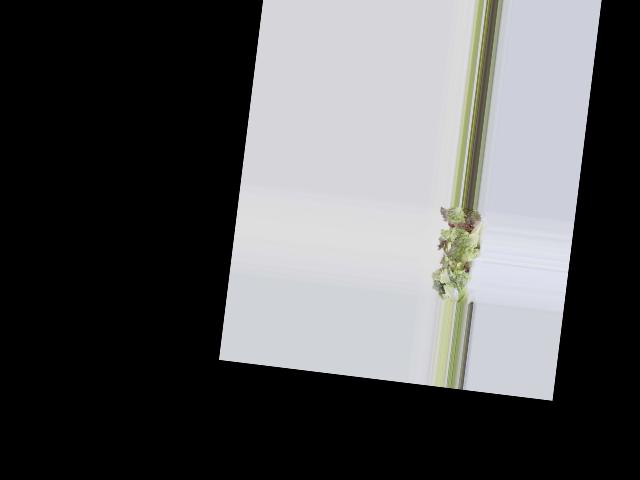lettuce: (433, 208, 478, 298)
